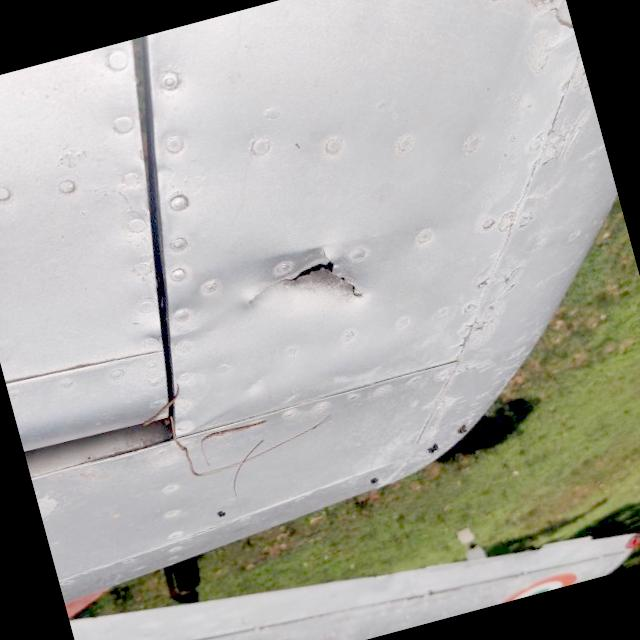crack: (226, 212, 394, 364)
